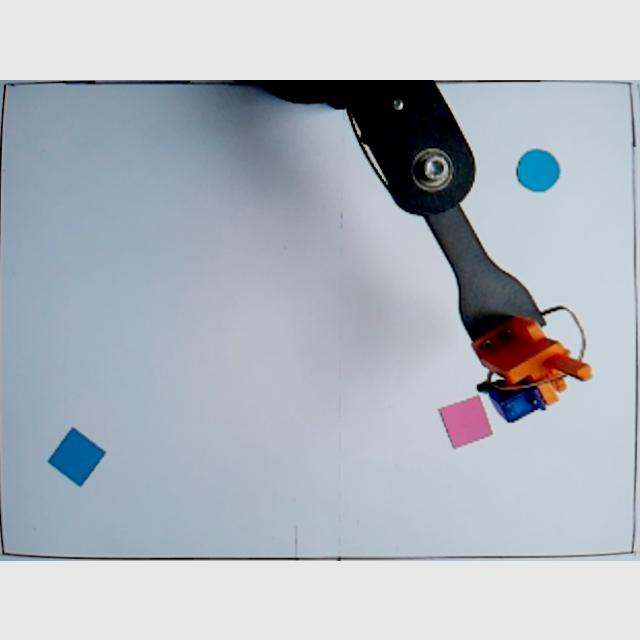blueCircle: (516, 145, 560, 191)
blueSquare: (48, 425, 108, 489)
pinkSquare: (438, 394, 494, 450)
